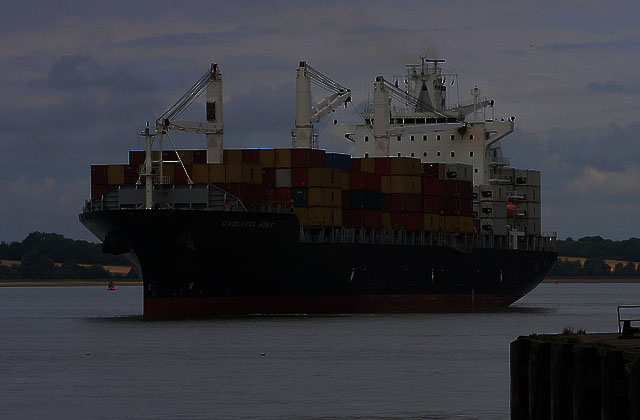container_ship: (76, 51, 558, 310)
